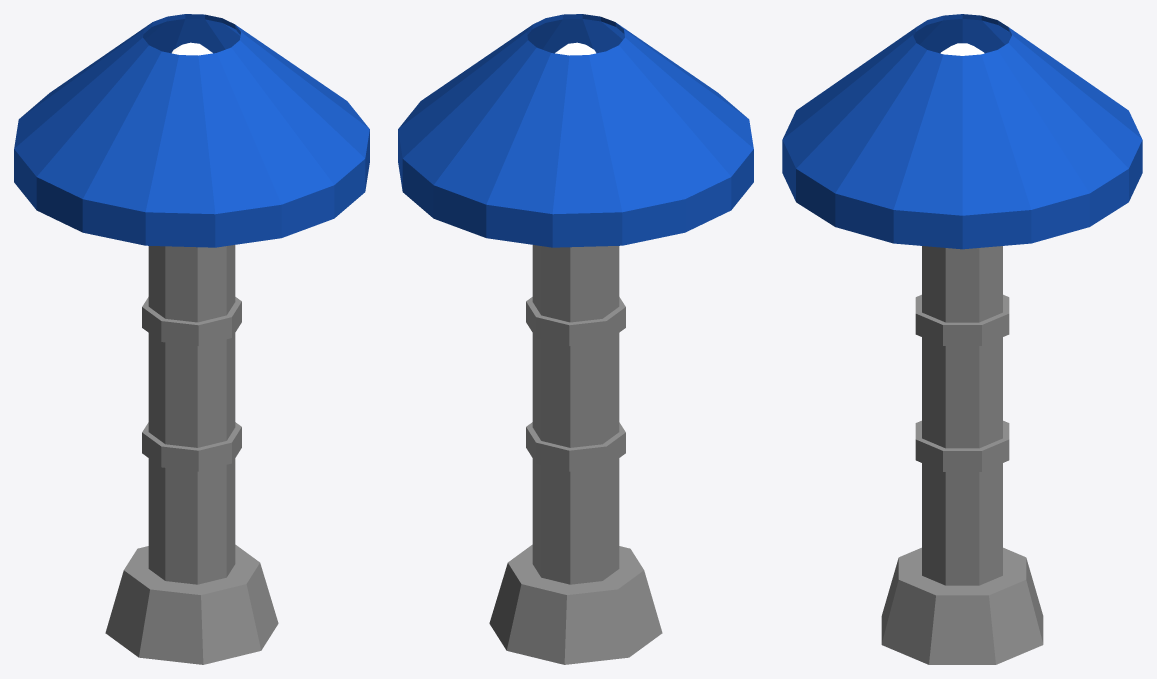
Rendered from Lampara.fbx.
3 renders of one model, left to right at view 1: azimuth 30°, elevation 25°; view 2: azimuth 150°, elevation 25°; view 3: azimuth 270°, elevation 25°, orthographic.
Visible parts, largest first — view 1: Lampara; view 2: Lampara; view 3: Lampara.
Boxes of the visible parts, x1=… form: Lampara: x1=14, y1=14, x2=369, y2=664; Lampara: x1=398, y1=14, x2=753, y2=664; Lampara: x1=782, y1=14, x2=1142, y2=664.
Bounding box in the file's own units: 37.11 × 67.75 × 37.11.
